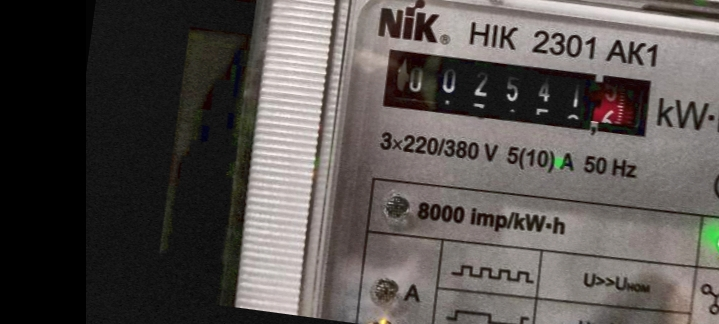0: (438, 60, 461, 96), (407, 62, 427, 93)
1: (565, 75, 585, 109)
2: (468, 64, 494, 100)
4: (534, 71, 555, 104)
5: (502, 70, 522, 104)
6: (598, 103, 617, 126)
screen: (366, 29, 675, 158)
